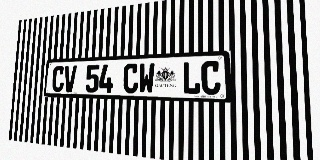4: (99, 64, 114, 93)
5: (85, 65, 100, 93)
C: (201, 60, 221, 95), (123, 63, 139, 93), (52, 66, 65, 92)
L: (182, 61, 201, 95)
V: (63, 65, 77, 92)
W: (138, 63, 155, 94)
